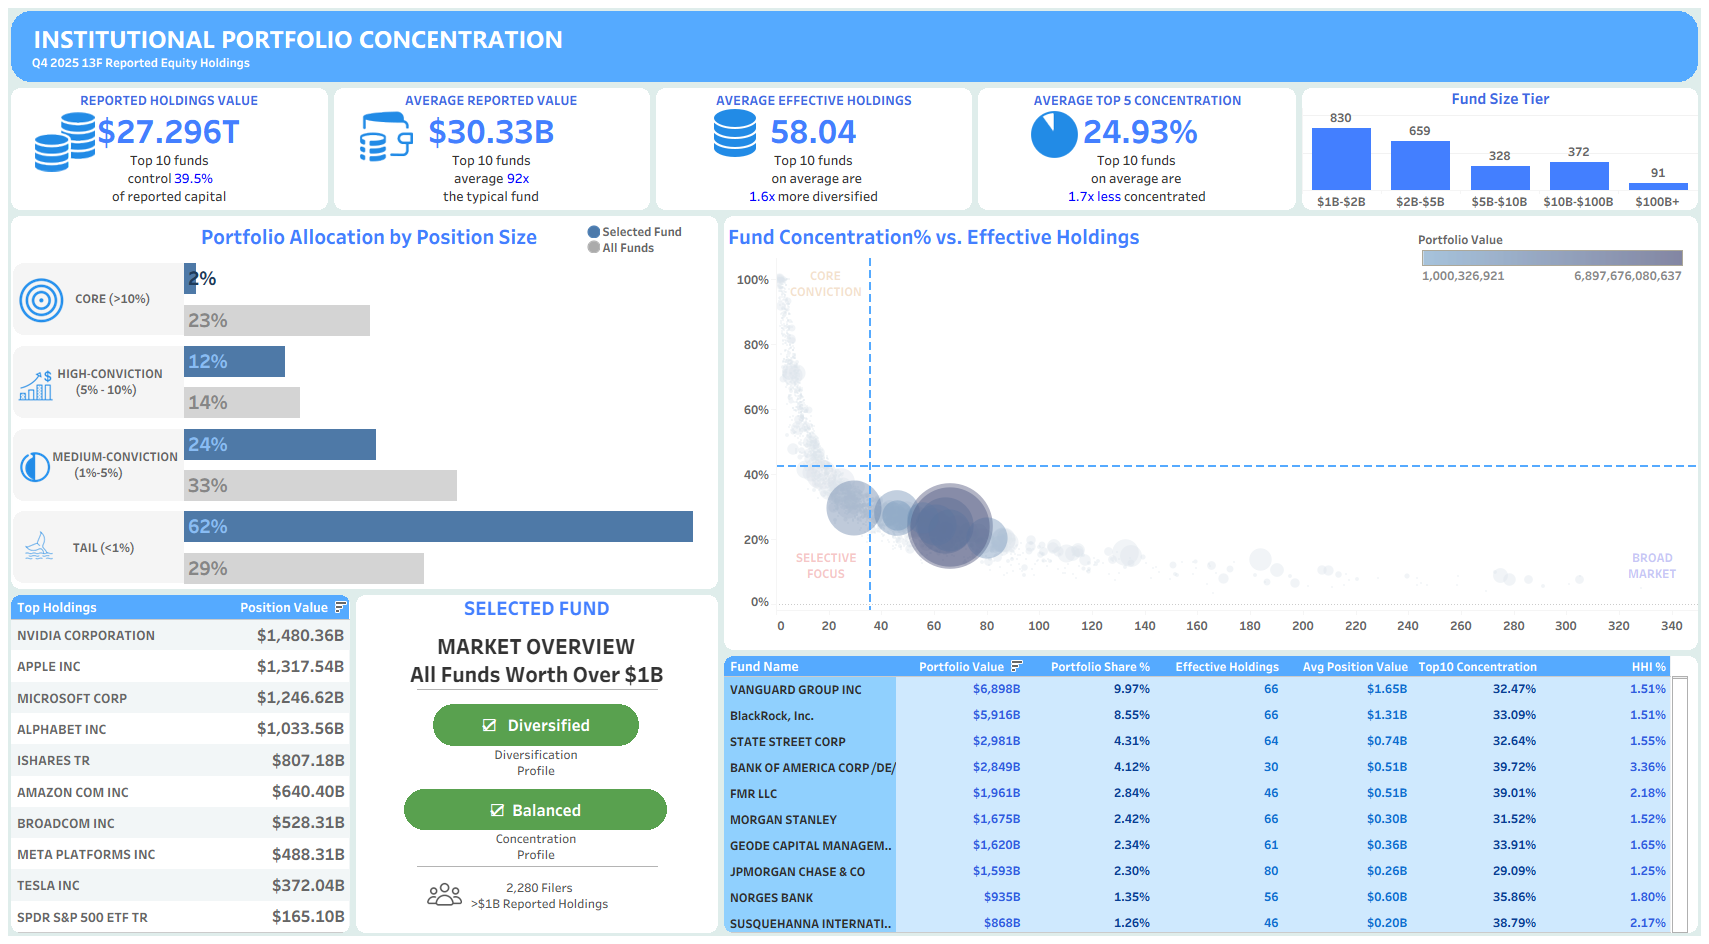

This screenshot's page, from the dashboard's own definition file:
{"tool":"tableau","page":{"name":"Dashboard 1","canvas":[1000,1000],"units":"permille","ordinal":0},"visuals":[{"type":"title","box":[4.7,8.5,990.6,81.5]},{"type":"worksheet","title":"Sheet 2","mark":"Automatic","box":[4.7,90,188.7,136]},{"type":"worksheet","title":"Sheet 3","mark":"Automatic","box":[193.4,90,188.5,136]},{"type":"worksheet","title":"Sheet 6","mark":"Automatic","box":[381.9,90,188.4,136]},{"type":"worksheet","title":"Sheet 7","mark":"Automatic","box":[570.3,90,189.7,136]},{"type":"worksheet","title":"Sheet 11","mark":"Bar","rows":["fund_name"],"cols":["Calculation_0336177946624000"],"box":[760,90,235.3,136]},{"type":"image","param":"C:/Users/Raav/Desktop/Work Stuff/PROJECT 2/Final/Institutional Portfolio Concent","box":[209.5,115.5,33.9,58.3]},{"type":"image","param":"C:/Users/Raav/Desktop/Work Stuff/PROJECT 2/Final/Institutional Portfolio Concent","box":[415.4,115.5,29.3,61.4]},{"type":"image","param":"C:/Users/Raav/Desktop/Work Stuff/PROJECT 2/Final/Institutional Portfolio Concent","box":[602.1,115.5,29.8,56.1]},{"type":"image","param":"C:/Users/Raav/Desktop/Work Stuff/PROJECT 2/Final/Institutional Portfolio Concent","box":[20.5,118.6,38,63.6]},{"type":"blank","box":[4.7,226,103,401.6]},{"type":"worksheet","title":"Sheet 8","mark":"Bar","rows":["position_bucket (bucket_summary_clean)"],"box":[107.7,226,314.4,401.6]},{"type":"worksheet","title":"Sheet 5","mark":"Circle","rows":["top5_concentration"],"cols":["effective_holdings"],"box":[422.1,226,573.2,465.3]},{"type":"text","box":[351.1,226.7,55.6,54]},{"type":"image","param":"C:/Users/Raav/Desktop/Work Stuff/PROJECT 2/Final/Institutional Portfolio Concent","box":[343.5,238.3,7.6,19.1]},{"type":"legend","title":"Sheet 5","param":"[federated.1q4xv8o17jksh01113fyi0gnvkeu].[sum:portfolio_value:qk]","box":[829.7,240.5,157.4,59.3]},{"type":"image","param":"C:/Users/Raav/Desktop/Work Stuff/PROJECT 2/Final/Institutional Portfolio Concent","box":[343.5,254.2,7.6,19.1]},{"type":"text","box":[5.9,278.6,101.8,76.3]},{"type":"image","param":"C:/Users/Raav/Desktop/Work Stuff/PROJECT 2/Final/Institutional Portfolio Concent","box":[8.8,290.2,31.1,56.1]},{"type":"text","box":[5.9,366.5,101.8,76.3]},{"type":"image","param":"C:/Users/Raav/Desktop/Work Stuff/PROJECT 2/Final/Institutional Portfolio Concent","box":[9.4,387.7,23.4,41.3]},{"type":"text","box":[5.9,454.4,101.8,76.3]},{"type":"image","param":"C:/Users/Raav/Desktop/Work Stuff/PROJECT 2/Final/Institutional Portfolio Concent","box":[10.6,476.7,20.5,36]},{"type":"text","box":[5.9,541.3,101.8,76.3]},{"type":"image","param":"C:/Users/Raav/Desktop/Work Stuff/PROJECT 2/Final/Institutional Portfolio Concent","box":[12.8,559.3,19.8,37.1]},{"type":"worksheet","title":"Sheet 9","mark":"Automatic","rows":["company"],"box":[4.7,627.6,201.9,363.9]},{"type":"worksheet","title":"Sheet 12","mark":"Automatic","box":[206.6,627.6,215.6,363.9]},{"type":"worksheet","title":"Sheet 10","mark":"Automatic","rows":["fund_name"],"box":[422.1,691.3,573.2,300.2]},{"type":"blank","box":[244,729.9,141,1.1]},{"type":"worksheet","title":"Sheet 13","mark":"Square","box":[253.4,745.8,120.5,44.5]},{"type":"text","box":[271.5,790.2,84.3,36]},{"type":"worksheet","title":"Sheet 14","mark":"Pie","box":[236.4,835.8,153.9,43.4]},{"type":"text","box":[271.5,877.1,84.3,39.2]},{"type":"blank","box":[244,917.4,141,1.1]},{"type":"text","box":[270.9,919.5,89.5,59.3]},{"type":"image","param":"C:/Users/Raav/Desktop/Work Stuff/PROJECT 2/Final/Institutional Portfolio Concent","box":[249.8,929,20.5,38.1]}]}

Visuals, with their boxes on the dashboard's canvas, which has no fixed pixel size, in thousandths of its width and height (x1, y1, x2, y2). These are canvas units, not pixel positions in the 1709x944 screenshot, which may show the page scaled, cropped or inside an application window:
title: (5,8,995,90)
"Sheet 2" worksheet: (5,90,193,226)
"Sheet 3" worksheet: (193,90,382,226)
"Sheet 6" worksheet: (382,90,570,226)
"Sheet 7" worksheet: (570,90,760,226)
"Sheet 11" worksheet (Bar marks): (760,90,995,226)
image: (210,116,243,174)
image: (415,116,445,177)
image: (602,116,632,172)
image: (20,119,58,182)
blank: (5,226,108,628)
"Sheet 8" worksheet (Bar marks): (108,226,422,628)
"Sheet 5" worksheet (Circle marks): (422,226,995,691)
text: (351,227,407,281)
image: (344,238,351,257)
"Sheet 5" legend: (830,240,987,300)
image: (344,254,351,273)
text: (6,279,108,355)
image: (9,290,40,346)
text: (6,366,108,443)
image: (9,388,33,429)
text: (6,454,108,531)
image: (11,477,31,513)
text: (6,541,108,618)
image: (13,559,33,596)
"Sheet 9" worksheet: (5,628,207,992)
"Sheet 12" worksheet: (207,628,422,992)
"Sheet 10" worksheet: (422,691,995,992)
blank: (244,730,385,731)
"Sheet 13" worksheet (Square marks): (253,746,374,790)
text: (272,790,356,826)
"Sheet 14" worksheet (Pie marks): (236,836,390,879)
text: (272,877,356,916)
blank: (244,917,385,918)
text: (271,920,360,979)
image: (250,929,270,967)
